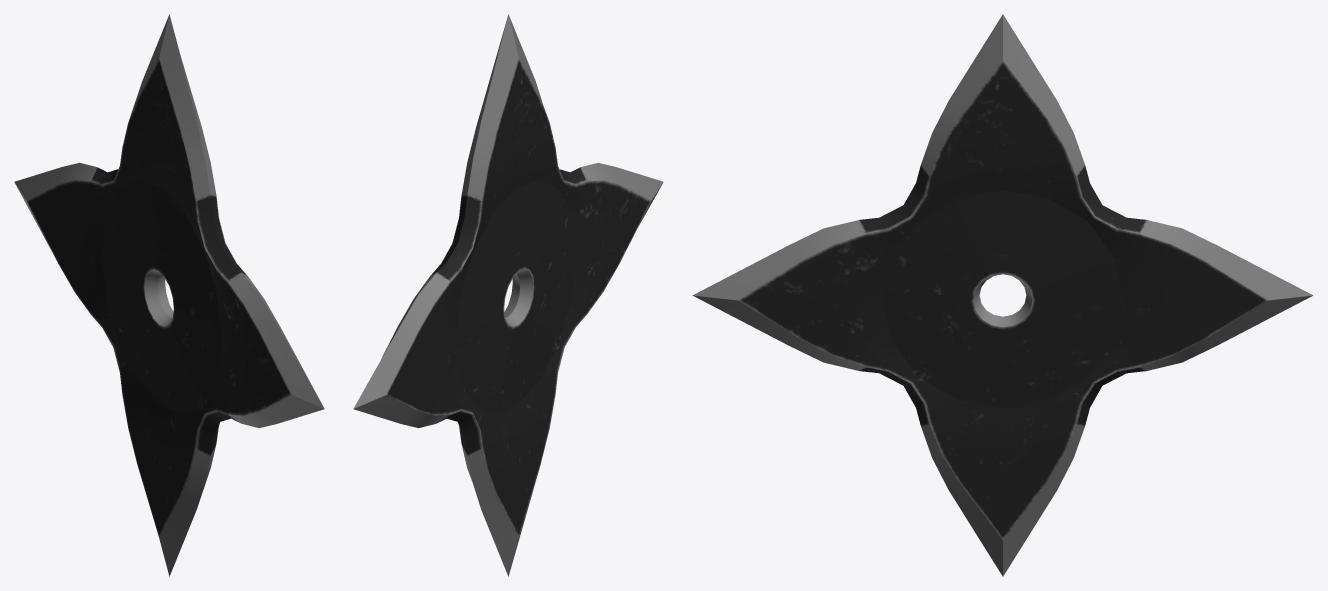
Rendered from Shuriken1.fbx.
3 views of the same model, side by side, from view 1: azimuth 30°, elevation 25°; view 2: azimuth 150°, elevation 25°; view 3: azimuth 270°, elevation 25° (orthographic).
Visible parts, largest first — view 1: Shuriken4; view 2: Shuriken4; view 3: Shuriken4.
Boxes of the visible parts, left/top/right/bottom form: Shuriken4: left=14, top=14, right=324, bottom=576; Shuriken4: left=353, top=14, right=663, bottom=576; Shuriken4: left=692, top=14, right=1313, bottom=576.
Size of the model in its own units: 0.4283 by 11.08 by 11.08.
1 material, 1 textured.
